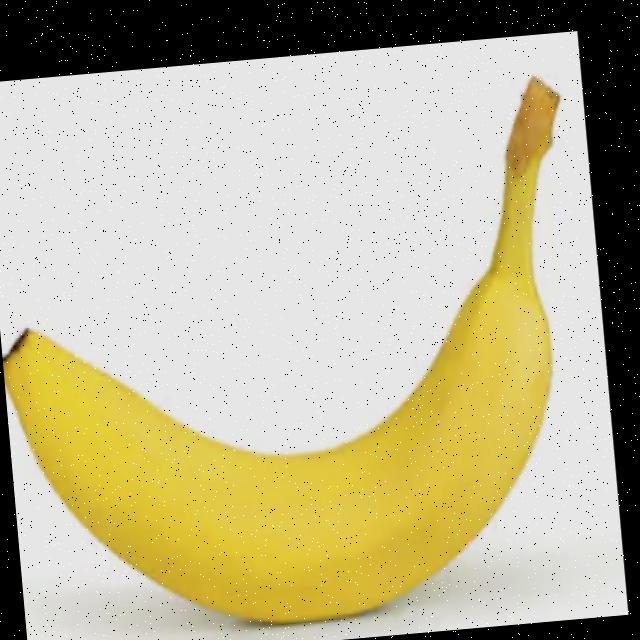Ripe: (0, 147, 579, 640)
